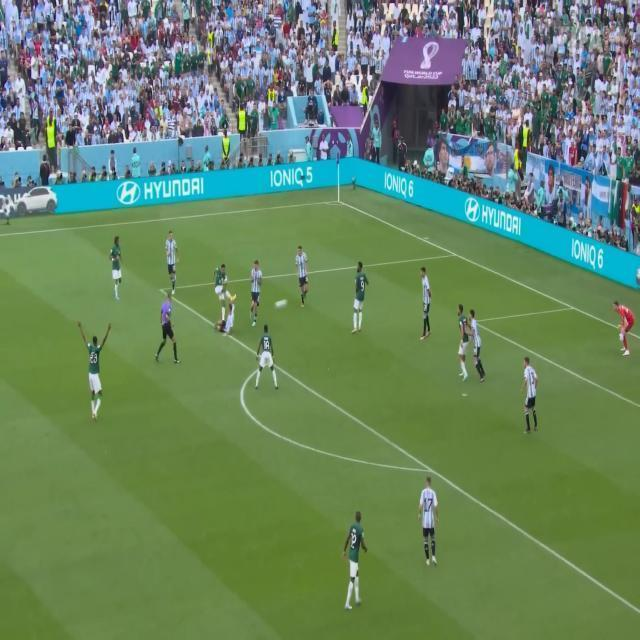player: (75, 312, 111, 424), (343, 503, 370, 615), (418, 475, 443, 570), (519, 348, 541, 436), (106, 226, 131, 302), (162, 227, 186, 301), (253, 323, 278, 393), (454, 304, 473, 395), (350, 258, 371, 338), (215, 259, 240, 321), (611, 296, 635, 359), (468, 300, 484, 383), (419, 261, 435, 341), (295, 241, 312, 316), (208, 303, 242, 338), (248, 257, 262, 328)
